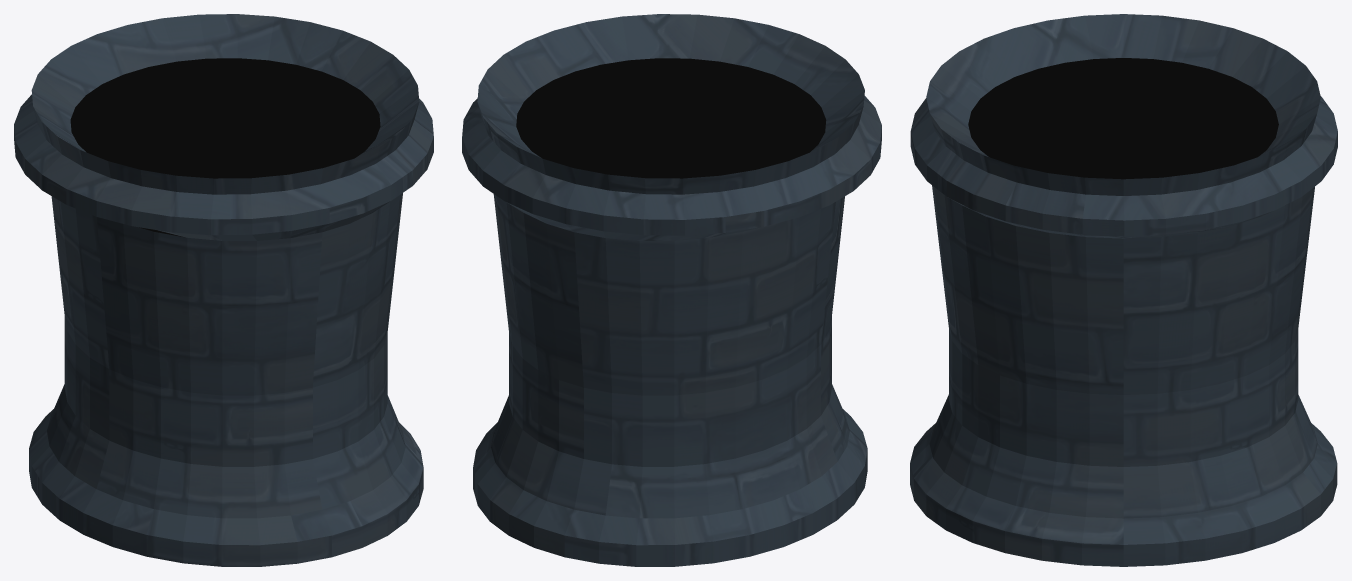
Rendered from ShopPillar.fbx.
3 views of the same model, side by side, from view 1: azimuth 30°, elevation 25°; view 2: azimuth 150°, elevation 25°; view 3: azimuth 270°, elevation 25° (orthographic).
Visible parts, largest first — view 1: Cylinder; view 2: Cylinder; view 3: Cylinder.
Boxes of the visible parts, box(x1,y1,x2,y2) form: Cylinder: box(14, 14, 433, 566); Cylinder: box(462, 14, 881, 566); Cylinder: box(910, 14, 1337, 566).
Bounding box in the file's own units: 240 × 242 × 242.
